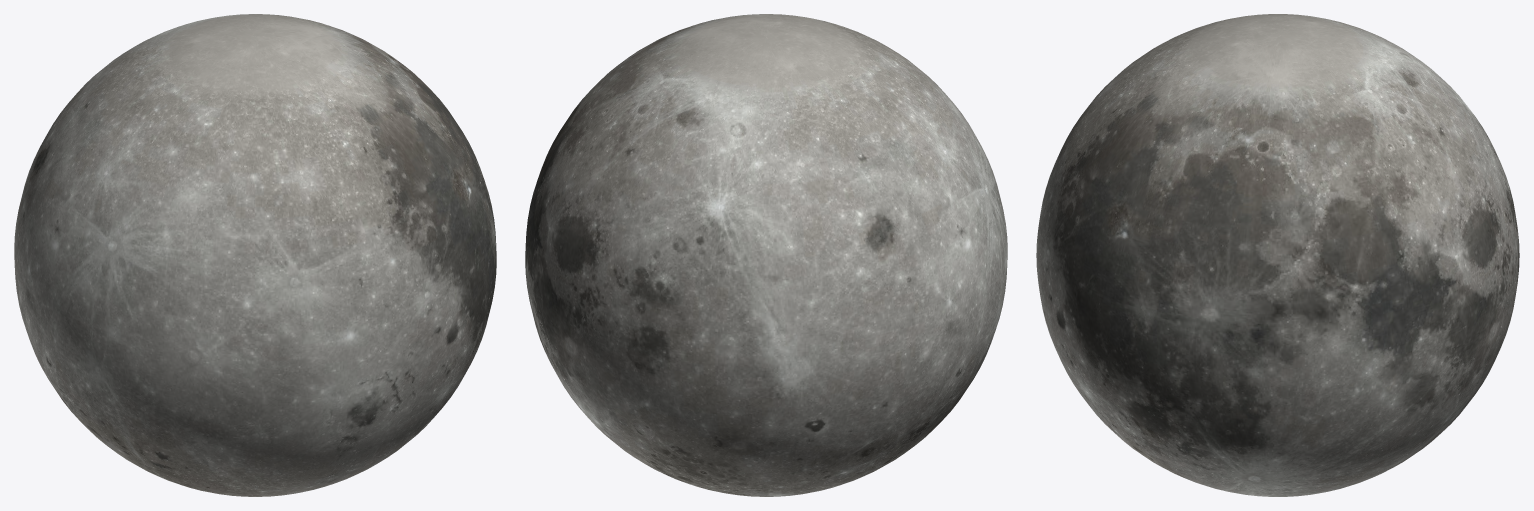
The model's file is moon.glb.
3 views of the same model, side by side, from view 1: azimuth 30°, elevation 25°; view 2: azimuth 150°, elevation 25°; view 3: azimuth 270°, elevation 25° (orthographic).
Parts seen in each view (by area): view 1: moon; view 2: moon; view 3: moon.
Boxes of the visible parts, bbox=[...] form: moon: bbox=[14, 14, 496, 496]; moon: bbox=[525, 14, 1007, 496]; moon: bbox=[1036, 14, 1519, 496].
Bounding box in the file's own units: 0.6936 × 0.695 × 0.695.
1 material, 1 textured.
